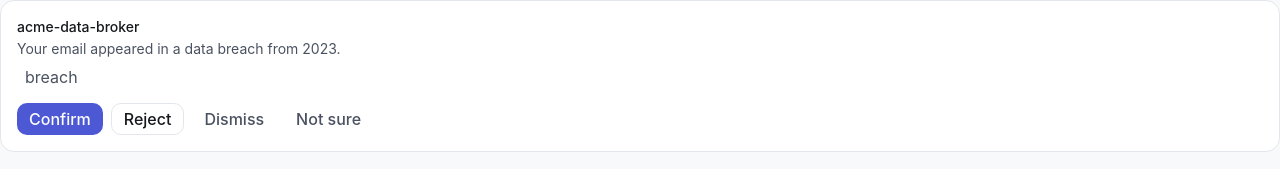
Test: CandidateCard — post-action transitions › NOT SURE success: pending → Not sure indicator + no action buttons + still visible
The image size is (1280, 169).
Click the button "Not sure". click: coordinates (329, 119)
box: [284, 103, 373, 135]
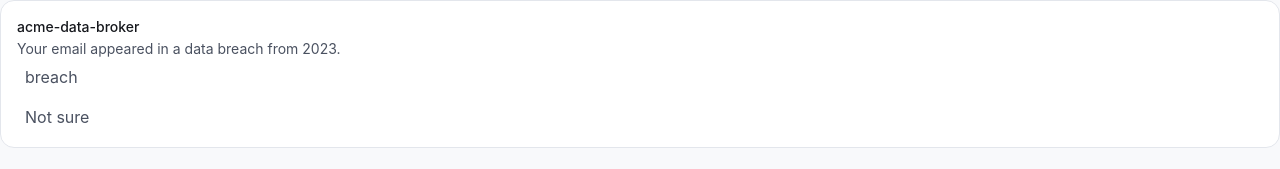
Expected: the text "acme-data-broker" is shown, [17, 18, 139, 35]
Result: no buttons are shown
